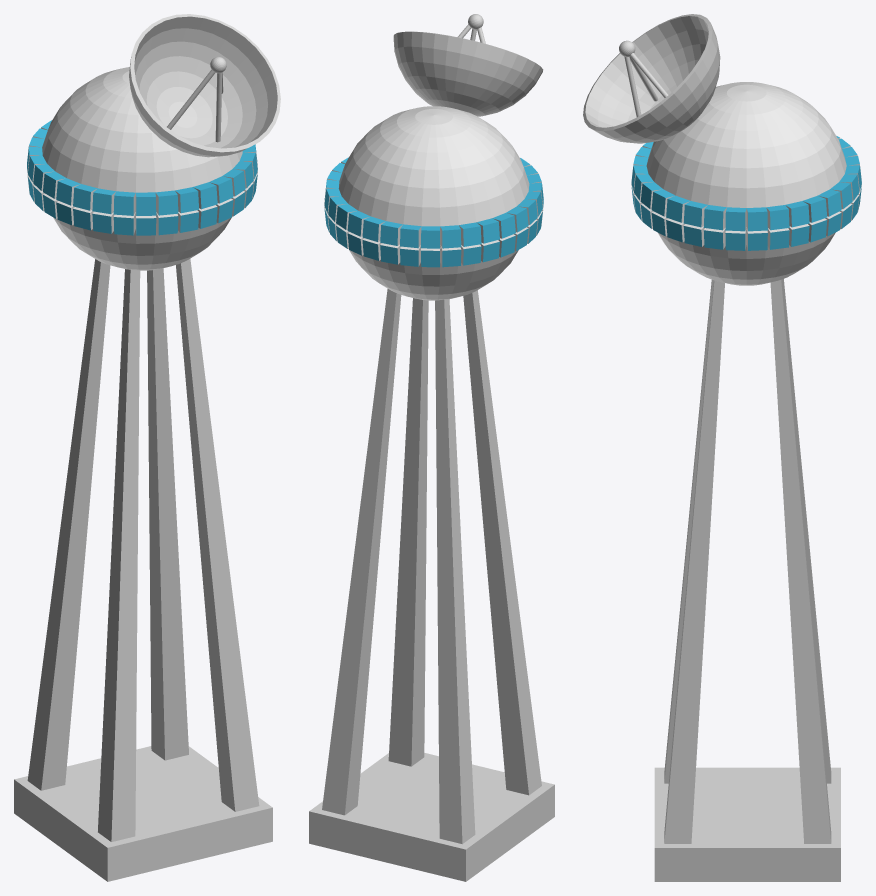
File: tower 1.fbx
3 views of the same model, side by side, from view 1: azimuth 30°, elevation 25°; view 2: azimuth 150°, elevation 25°; view 3: azimuth 270°, elevation 25° (orthographic). The views are drawn at different scales.
Visible parts, largest first — view 1: Cube, Sphere, Sphere.001, Cylinder; view 2: Cube, Sphere, Sphere.001; view 3: Cube, Sphere, Sphere.001, Cylinder.
Boxes of the visible parts, left/top/right/bottom form: Cube: left=14, top=259, right=272, bottom=881; Sphere: left=27, top=67, right=257, bottom=270; Sphere.001: left=129, top=14, right=280, bottom=157; Cylinder: left=167, top=56, right=226, bottom=142; Cube: left=309, top=289, right=554, bottom=881; Sphere: left=324, top=106, right=543, bottom=300; Sphere.001: left=393, top=31, right=543, bottom=116; Cube: left=654, top=279, right=840, bottom=881; Sphere: left=631, top=82, right=861, bottom=285; Sphere.001: left=583, top=14, right=720, bottom=143; Cylinder: left=619, top=40, right=668, bottom=117.
Size of the model in its own units: 1370 by 5371 by 1657.
